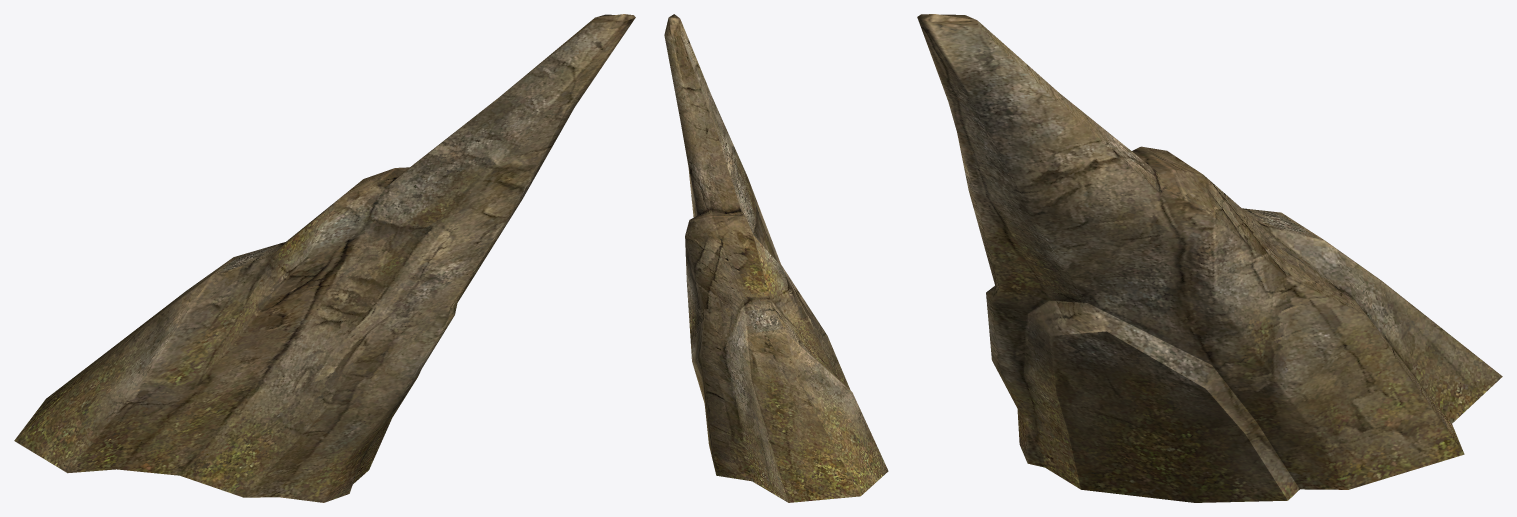
The model's file is trigonal_rock_01.fbx.
3 renders of one model, left to right at view 1: azimuth 30°, elevation 25°; view 2: azimuth 150°, elevation 25°; view 3: azimuth 270°, elevation 25°, orthographic. The views are drawn at different scales.
Visible parts, largest first — view 1: objtrigonal_rock_01; view 2: objtrigonal_rock_01; view 3: objtrigonal_rock_01.
Boxes of the visible parts, x1,y1,x2,y2 form: objtrigonal_rock_01: (14, 14, 635, 502); objtrigonal_rock_01: (664, 14, 888, 502); objtrigonal_rock_01: (917, 14, 1502, 502).
Bounding box in the file's own units: 11.48 × 10.96 × 9.52.
